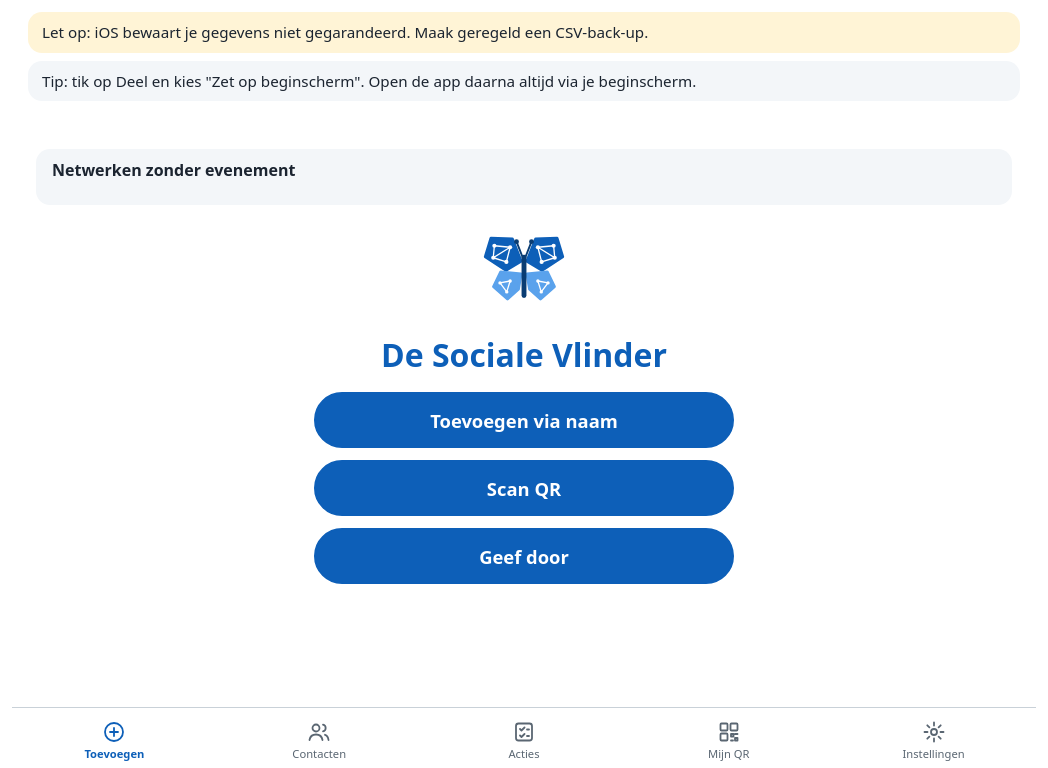
Settings: CSV backup (F10 US1) › shows the backup button and that no backup was made yet
Click the button "Instellingen".
click(934, 740)  # box top-left (831, 712), bottom-right (1036, 767)
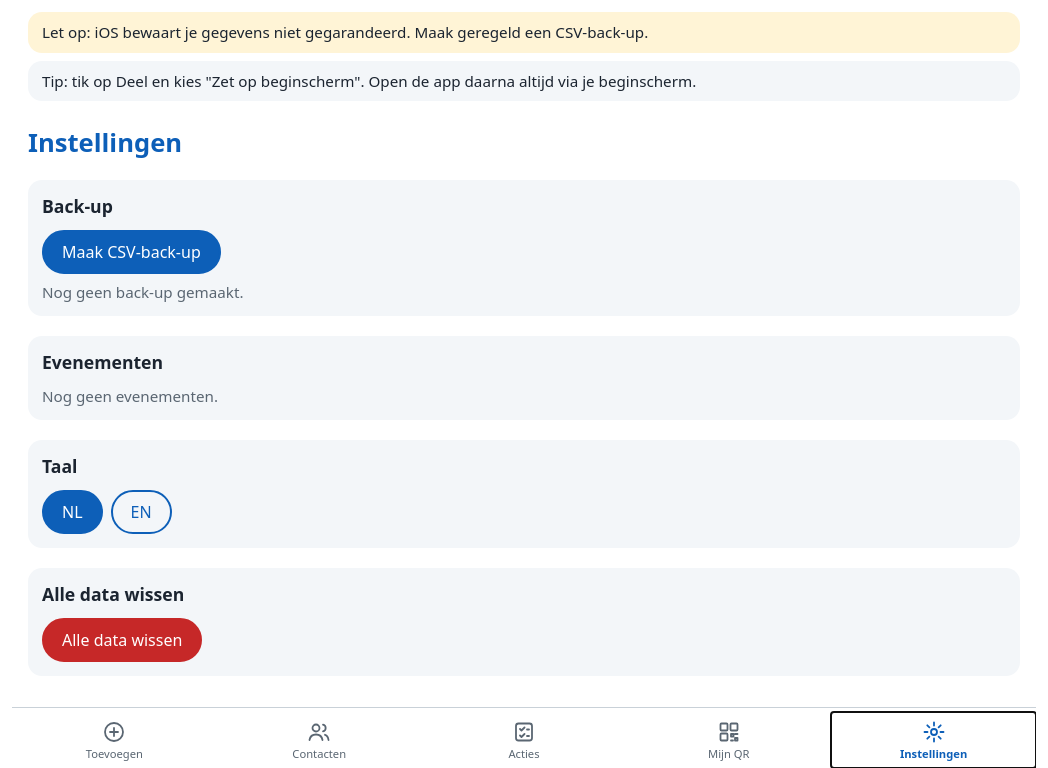
Check: the heading "Instellingen" is shown, box top-left (28, 125), bottom-right (182, 160)
Check: the button "Maak CSV-back-up" is shown, box top-left (42, 230), bottom-right (221, 274)
Check: the text "Nog geen back-up gemaakt." is shown, box top-left (42, 282), bottom-right (244, 302)
